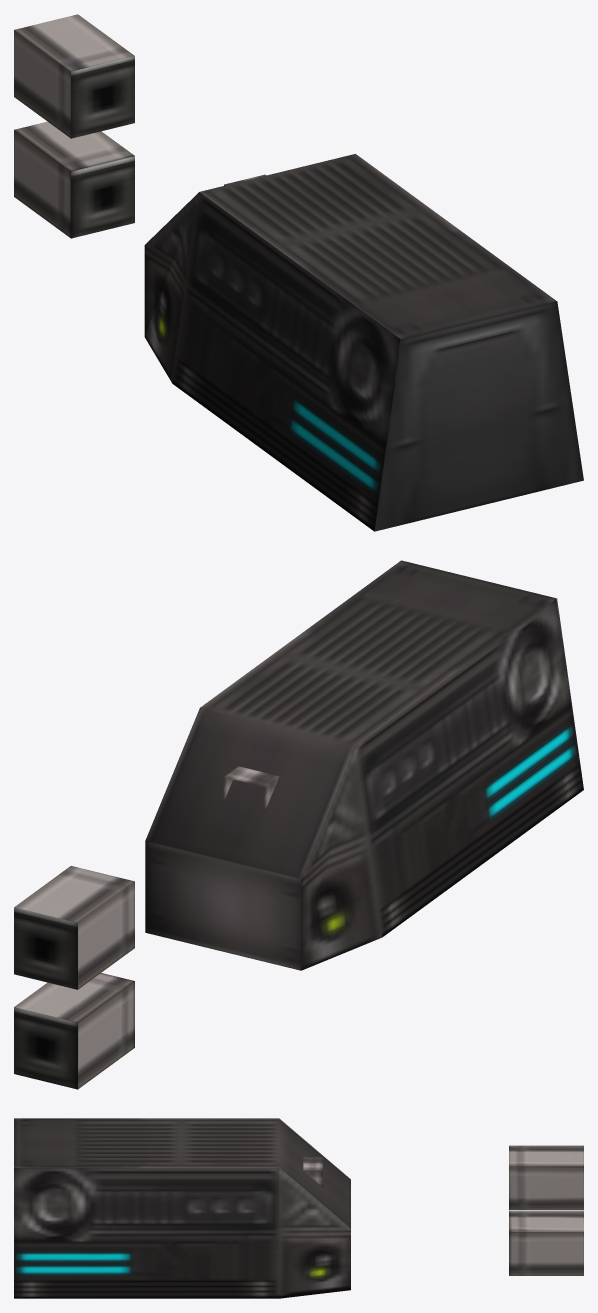
The model's file is wep05_static.obj.
3 renders of one model, top to bottom at view 1: azimuth 30°, elevation 25°; view 2: azimuth 150°, elevation 25°; view 3: azimuth 270°, elevation 25°, orthographic. The views are drawn at different scales.
Parts seen in each view (by area): view 1: frm-wepbas1, frm-twepbar2, frm-bwepbar2; view 2: frm-wepbas1, frm-twepbar2, frm-bwepbar2, frm-twepbar1; view 3: frm-wepbas1, frm-twepbar2, frm-bwepbar2, frm-twepbar1.
Part boxes in pixels (x1,y1,x2,y2): frm-wepbas1: (144, 154, 583, 531); frm-twepbar2: (14, 14, 134, 138); frm-bwepbar2: (14, 121, 134, 238); frm-wepbas1: (145, 560, 583, 970); frm-twepbar2: (14, 866, 134, 989); frm-bwepbar2: (14, 973, 134, 1089); frm-twepbar1: (223, 766, 279, 811); frm-wepbas1: (14, 1118, 350, 1298); frm-twepbar2: (509, 1145, 583, 1210); frm-bwepbar2: (509, 1211, 583, 1275); frm-twepbar1: (303, 1157, 322, 1186).
Bounding box in the file's own units: 0.1557 × 0.1322 × 0.5586.
